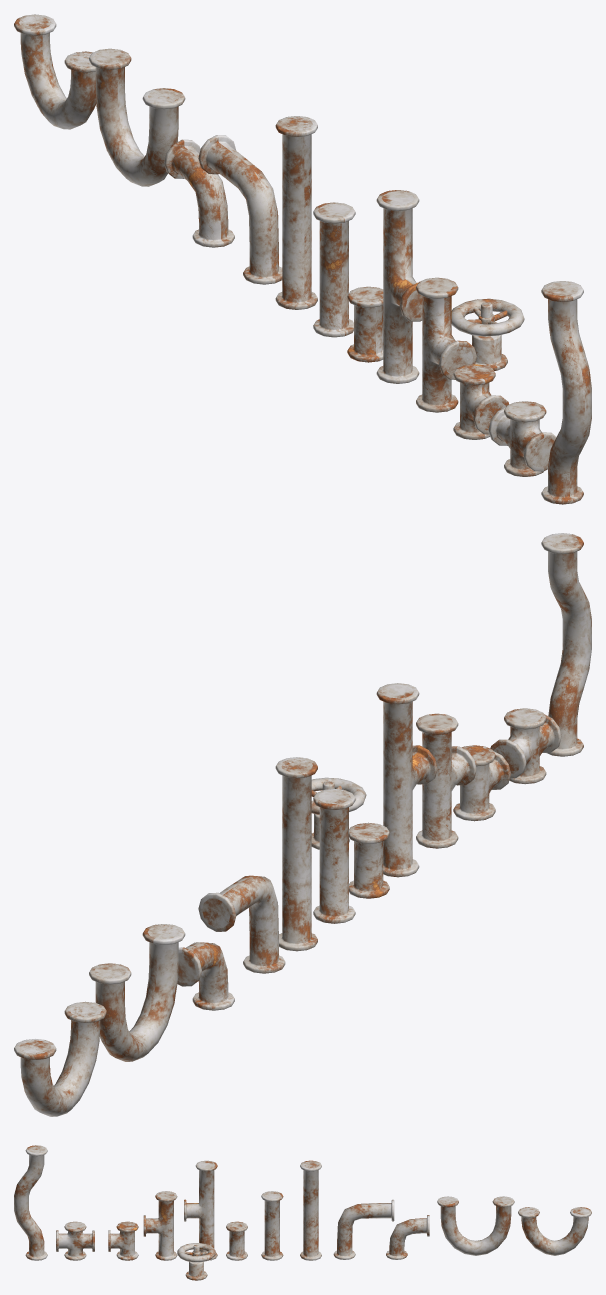
Rendered from PipeAssets.fbx.
The picture shows the model from 3 angles, top to bottom: view 1: azimuth 30°, elevation 25°; view 2: azimuth 150°, elevation 25°; view 3: azimuth 270°, elevation 25°; orthographic projection. The views are drawn at different scales.
Parts seen in each view (by area): view 1: Cylinder.005, Cylinder.004, Cylinder.008, Cylinder.002, Cylinder.011, Cylinder.003, Cylinder.007, Cylinder.001, Cylinder.010, Cylinder.012, Cylinder.009, Cylinder.006 (+1 smaller); view 2: Cylinder.004, Cylinder.008, Cylinder.005, Cylinder.002, Cylinder.011, Cylinder.003, Cylinder.007, Cylinder.001, Cylinder.012, Cylinder.010, Cylinder.006, Cylinder (+1 smaller); view 3: Cylinder.004, Cylinder.005, Cylinder.011, Cylinder.008, Cylinder.002, Cylinder.003, Cylinder.007, Cylinder.001, Cylinder.012, Cylinder.010, Cylinder.009, Cylinder.006 (+1 smaller).
Part boxes in pixels (x1=…): Cylinder.005: x1=541, y1=281, x2=591, y2=504; Cylinder.004: x1=89, y1=48, x2=185, y2=186; Cylinder.008: x1=376, y1=190, x2=422, y2=383; Cylinder.002: x1=275, y1=116, x2=317, y2=309; Cylinder.011: x1=14, y1=14, x2=96, y2=129; Cylinder.003: x1=198, y1=135, x2=282, y2=284; Cylinder.007: x1=416, y1=277, x2=476, y2=412; Cylinder.001: x1=313, y1=202, x2=355, y2=337; Cylinder.010: x1=164, y1=139, x2=234, y2=247; Cylinder.012: x1=488, y1=401, x2=556, y2=476; Cylinder.009: x1=451, y1=298, x2=524, y2=370; Cylinder.006: x1=453, y1=364, x2=509, y2=439; Cylinder.004: x1=89, y1=924, x2=185, y2=1061; Cylinder.008: x1=376, y1=683, x2=437, y2=877; Cylinder.005: x1=541, y1=533, x2=591, y2=756; Cylinder.002: x1=275, y1=757, x2=317, y2=951; Cylinder.011: x1=14, y1=1001, x2=106, y2=1116; Cylinder.003: x1=198, y1=875, x2=285, y2=973; Cylinder.007: x1=416, y1=713, x2=476, y2=848; Cylinder.001: x1=313, y1=788, x2=355, y2=923; Cylinder.012: x1=490, y1=708, x2=561, y2=784; Cylinder.010: x1=177, y1=942, x2=234, y2=1010; Cylinder.006: x1=453, y1=745, x2=510, y2=821; Cylinder: x1=349, y1=822, x2=389, y2=898; Cylinder.004: x1=437, y1=1196, x2=514, y2=1255; Cylinder.005: x1=14, y1=1145, x2=47, y2=1260; Cylinder.011: x1=518, y1=1207, x2=591, y2=1255; Cylinder.008: x1=184, y1=1160, x2=217, y2=1260; Cylinder.002: x1=300, y1=1160, x2=321, y2=1260; Cylinder.003: x1=333, y1=1199, x2=394, y2=1259; Cylinder.007: x1=143, y1=1191, x2=177, y2=1260; Cylinder.001: x1=261, y1=1191, x2=283, y2=1260; Cylinder.012: x1=56, y1=1221, x2=94, y2=1260; Cylinder.010: x1=386, y1=1215, x2=429, y2=1259; Cylinder.009: x1=177, y1=1243, x2=215, y2=1280; Cylinder.006: x1=108, y1=1221, x2=138, y2=1260.
Size of the model in its own units: 4.59 by 7 by 34.35.
